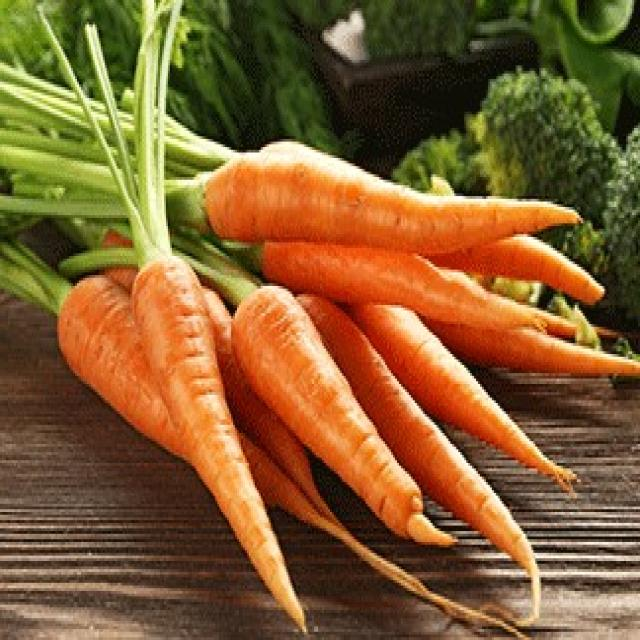Broccoli: (412, 67, 636, 316)
Carrot: (72, 2, 278, 640), (0, 223, 611, 387), (120, 209, 308, 628), (0, 140, 589, 252), (237, 265, 431, 537), (360, 278, 592, 476)
